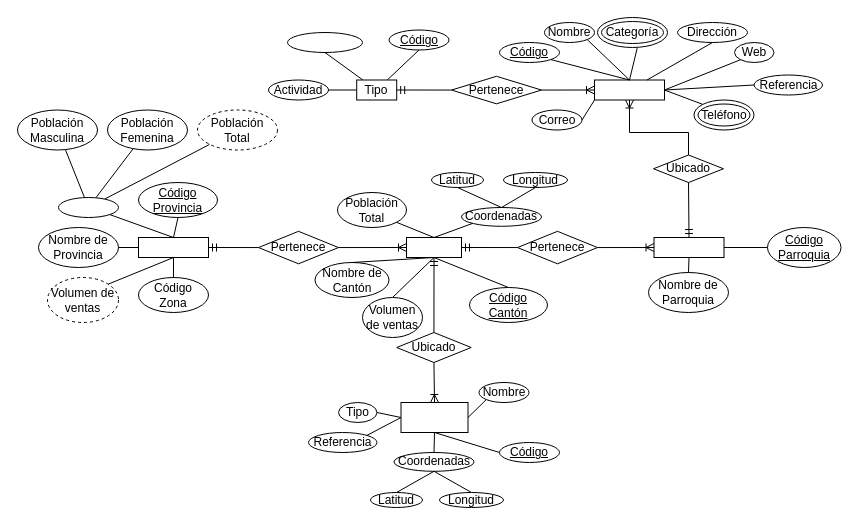
The diagram is 859 pixels wide and 525 high, and some of its shapes have lost their labels. Here are the shapes that lost their labels. From the top down, the centre of each, then its label:
At (324,42): "Clasificación".
At (629,89): "Comercio".
At (88,207): "Población".
At (173,247): "Provincia".
At (434,247): "Cantón".
At (688,247): "Parroquia".
At (434,417): "Lugar Turístico".
